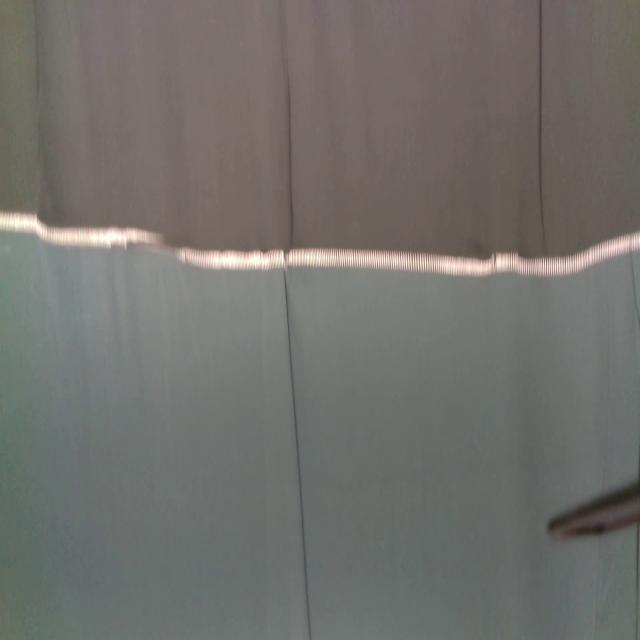crease: (284, 269, 312, 640), (535, 0, 548, 249), (285, 81, 295, 249), (635, 525, 640, 638)
